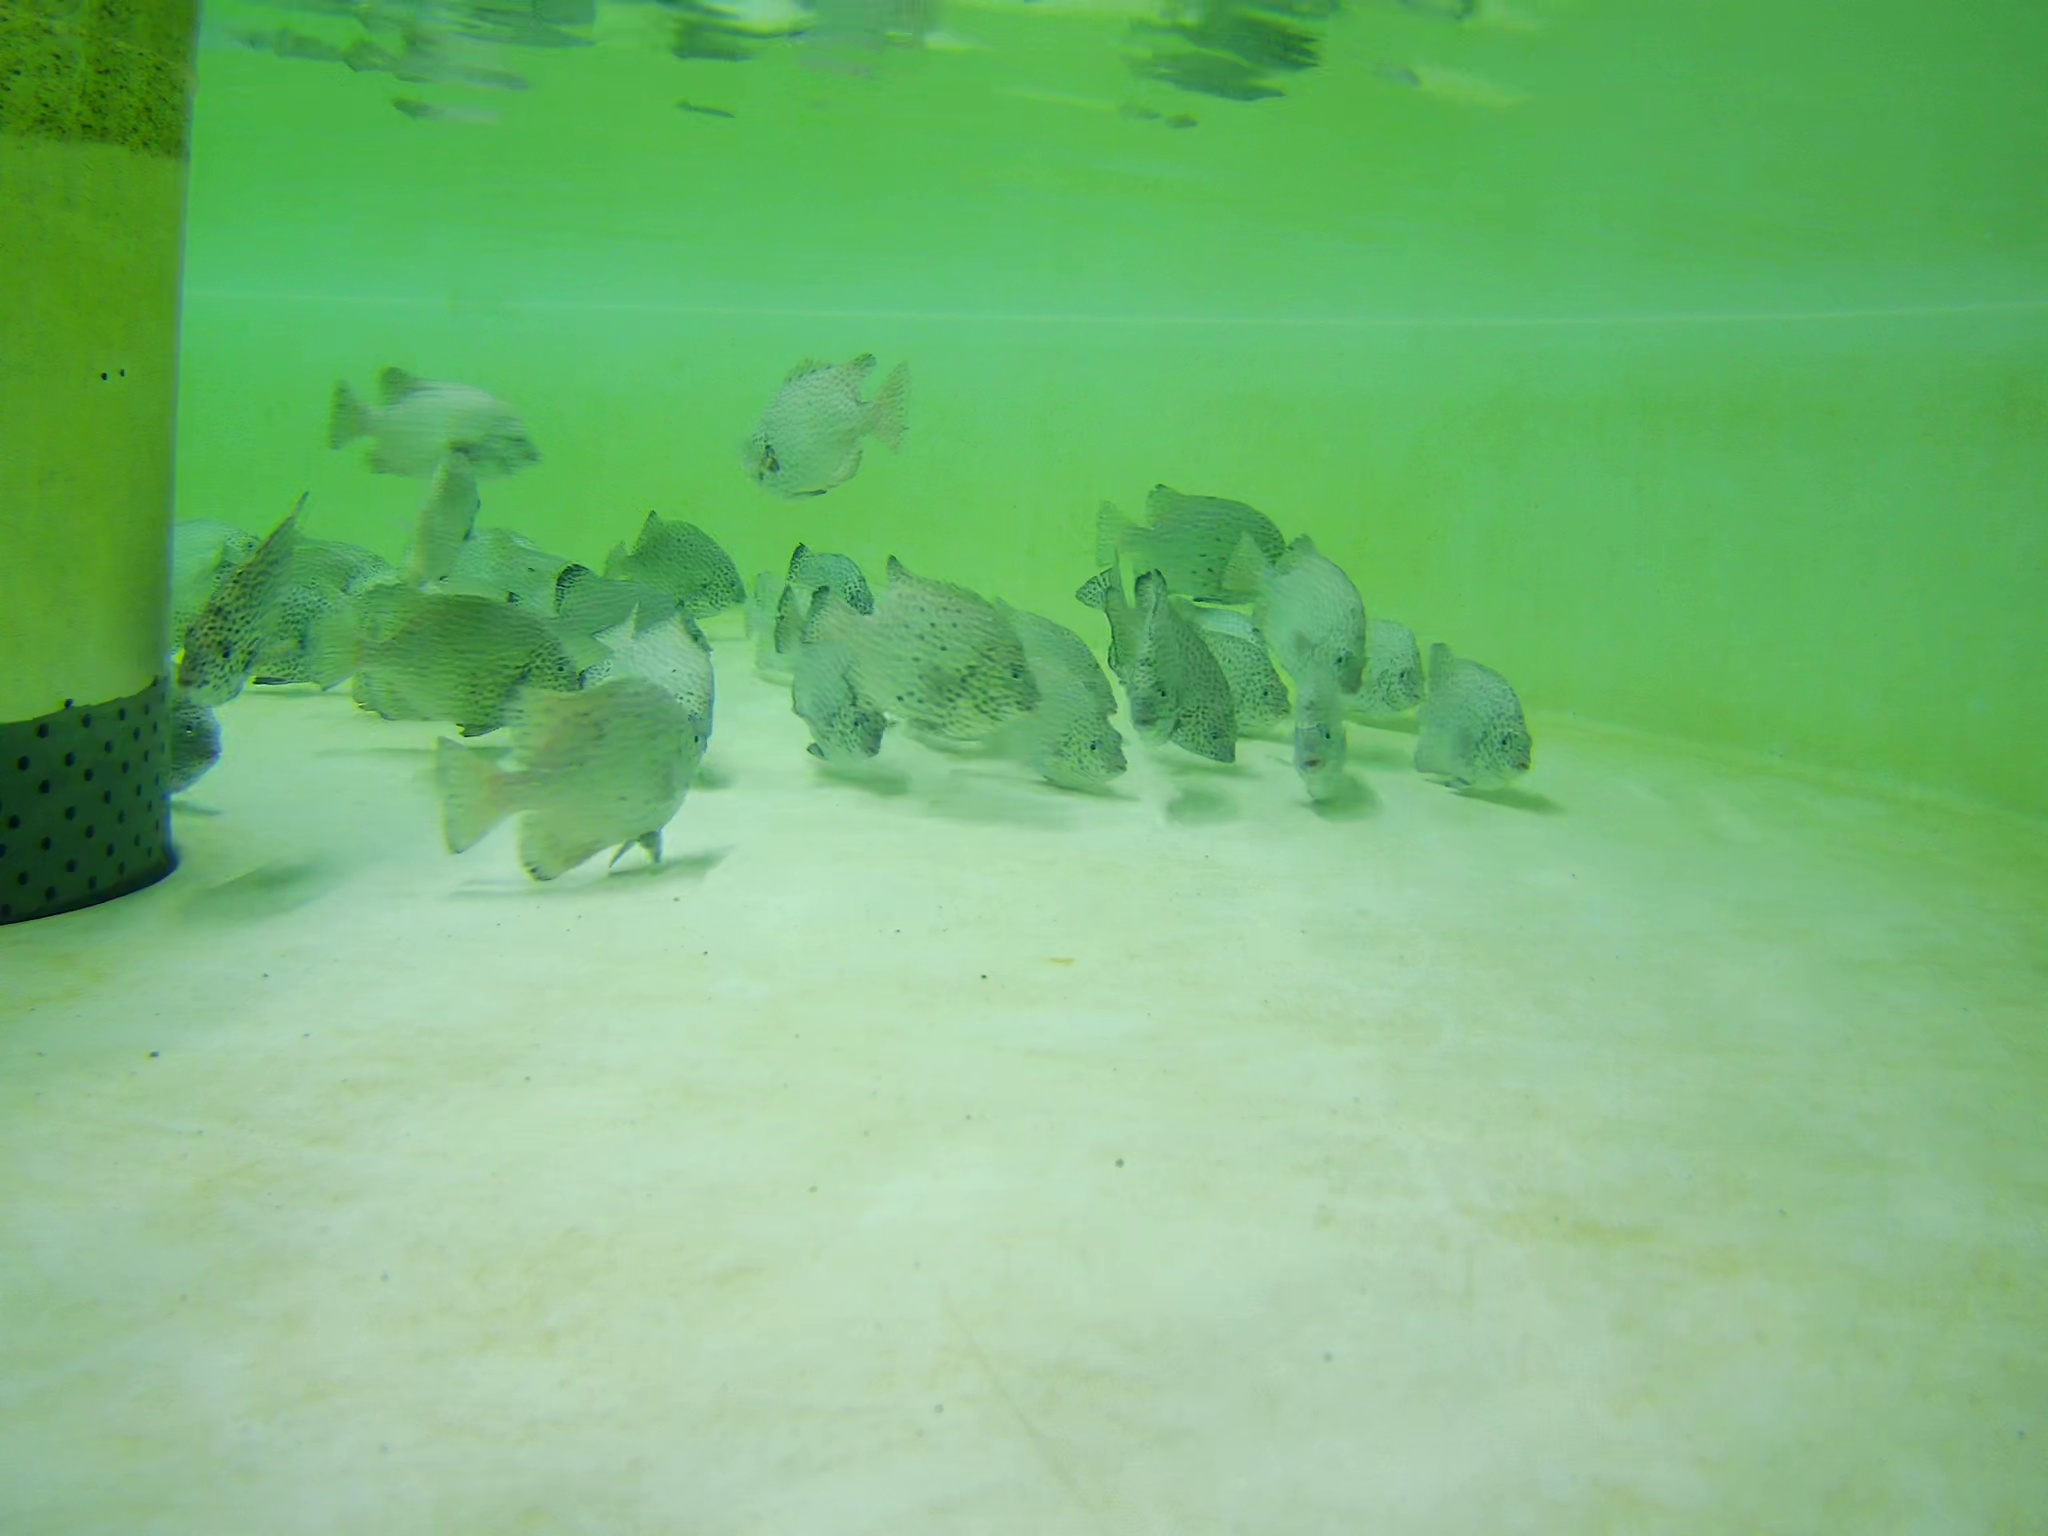fish: (426, 673, 698, 886), (860, 547, 1037, 744), (350, 591, 582, 728), (721, 352, 927, 505), (182, 494, 313, 703), (235, 536, 405, 695), (326, 365, 540, 489), (980, 594, 1122, 781), (414, 523, 601, 653), (1093, 476, 1288, 600), (577, 600, 711, 778), (1232, 521, 1364, 694), (1416, 636, 1537, 797), (782, 579, 874, 768), (606, 510, 748, 631), (1148, 574, 1224, 778), (1176, 610, 1288, 734), (766, 537, 879, 660), (389, 453, 482, 582), (1337, 591, 1424, 721), (1109, 587, 1179, 742), (1280, 678, 1351, 800), (169, 665, 219, 791)
